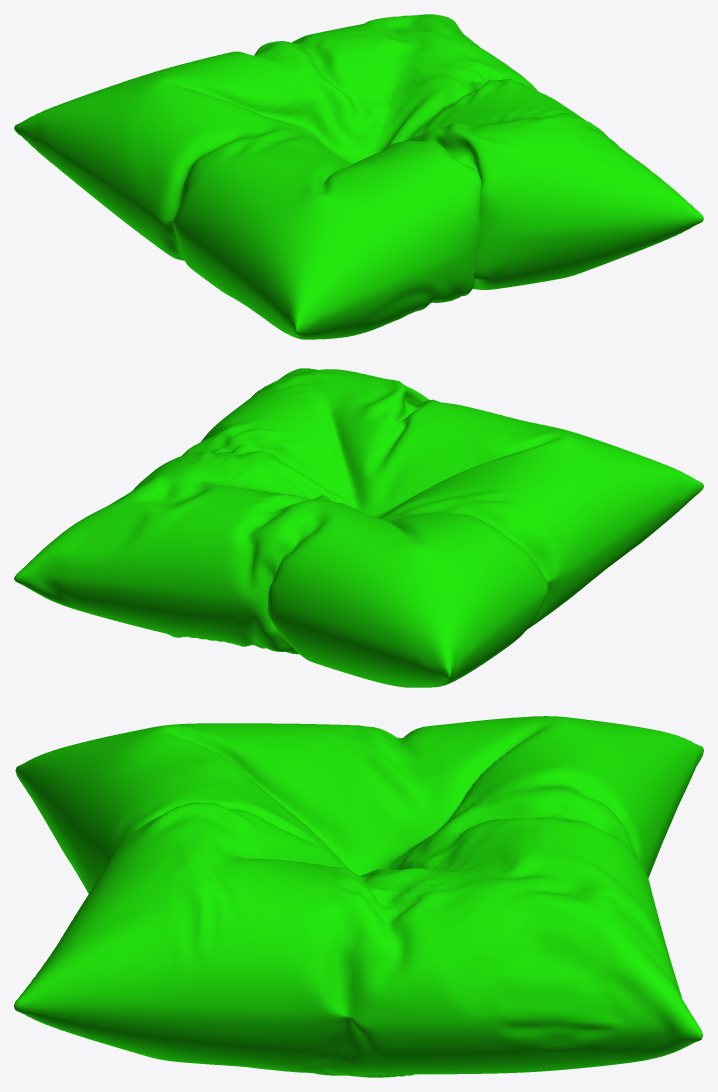
The model's file is green_pillow.glb.
The picture shows the model from 3 angles, top to bottom: view 1: azimuth 30°, elevation 25°; view 2: azimuth 150°, elevation 25°; view 3: azimuth 270°, elevation 25°; orthographic projection. The views are drawn at different scales.
Parts seen in each view (by area): view 1: Plane; view 2: Plane; view 3: Plane.
Part boxes in pixels (bbox=[...]): Plane: bbox=[14, 14, 703, 339]; Plane: bbox=[14, 368, 703, 687]; Plane: bbox=[14, 716, 703, 1077].
Size of the model in its own units: 1.83 by 0.6522 by 1.95.
